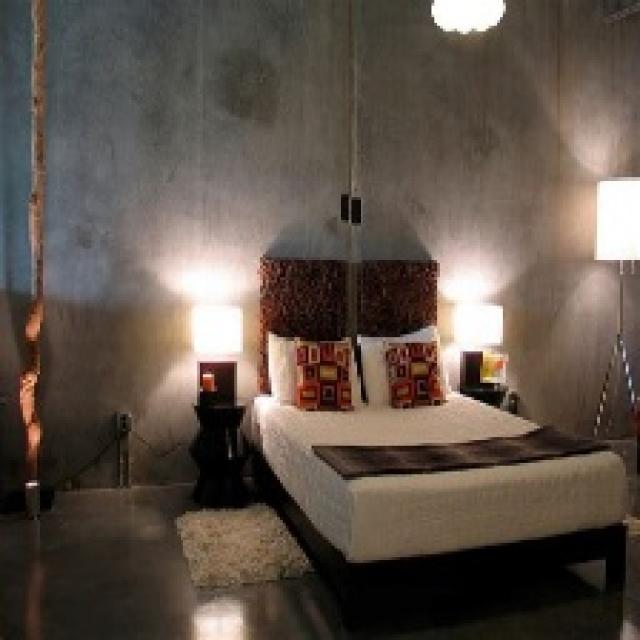Bed: (243, 255, 628, 614)
